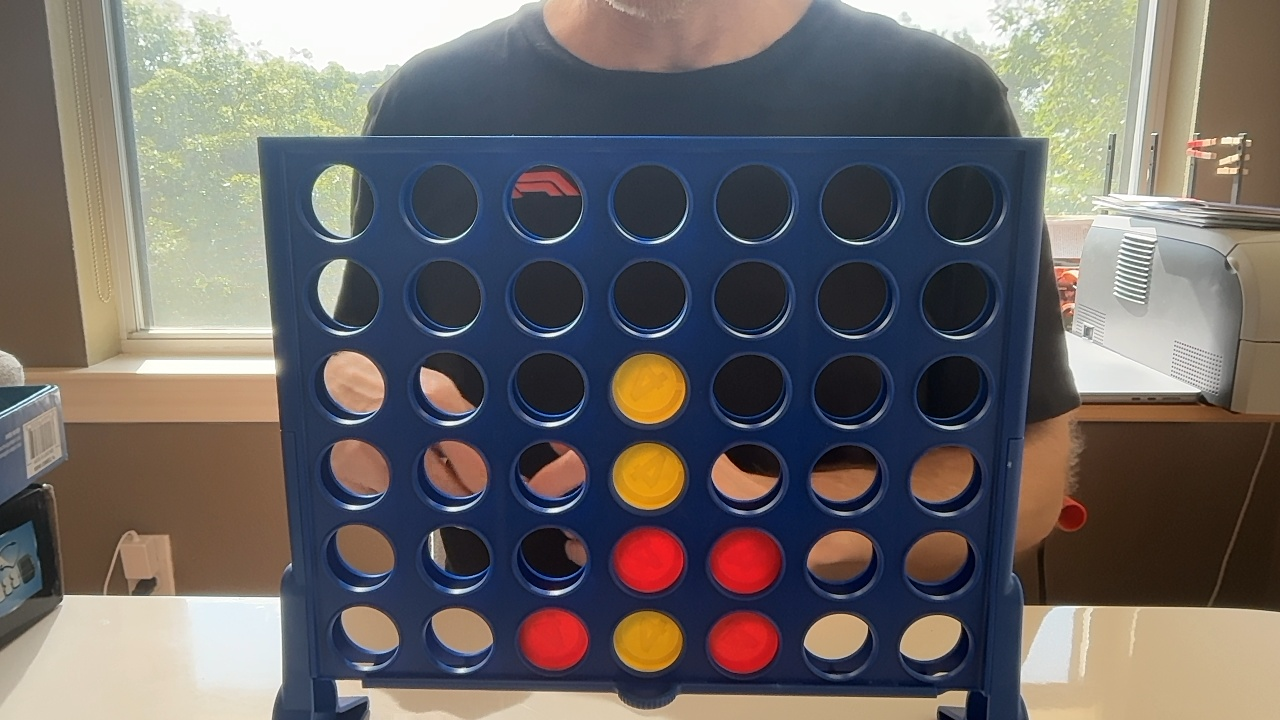red piece: (612, 527, 685, 593), (710, 529, 782, 594), (708, 611, 779, 674), (518, 608, 588, 671)
yellow piece: (612, 354, 686, 423), (613, 443, 685, 509), (614, 610, 683, 672)
